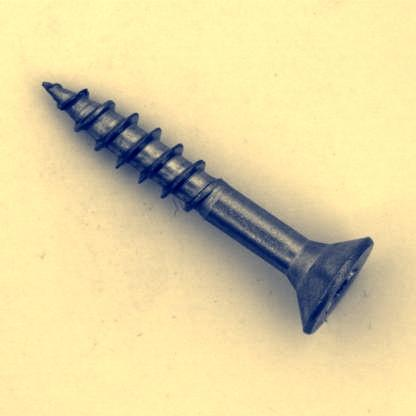metal: (40, 78, 375, 338)
